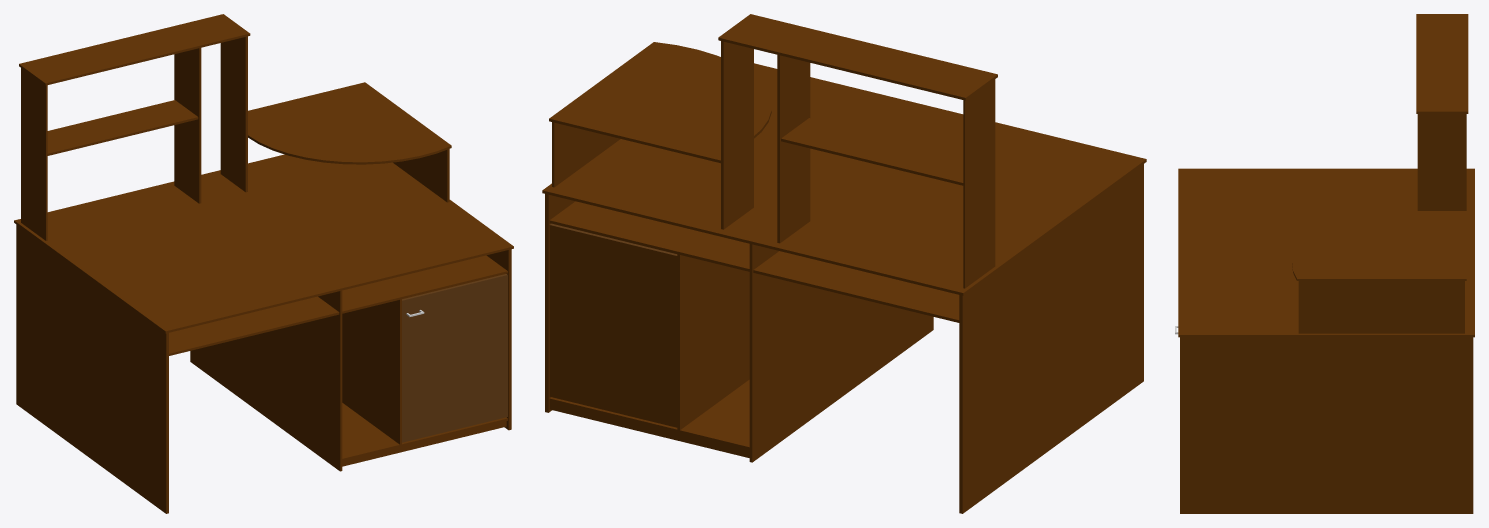
The model's file is Desk.fbx.
3 renders of one model, left to right at view 1: azimuth 30°, elevation 25°; view 2: azimuth 150°, elevation 25°; view 3: azimuth 270°, elevation 25°, orthographic. The views are drawn at different scales.
Parts seen in each view (by area): view 1: Model; view 2: Model; view 3: Model.
Part boxes in pixels (left/top/right/bottom): Model: left=14, top=14, right=513, bottom=513; Model: left=542, top=14, right=1146, bottom=513; Model: left=1175, top=14, right=1474, bottom=513.
Bounding box in the file's own units: 965 × 906 × 735.
